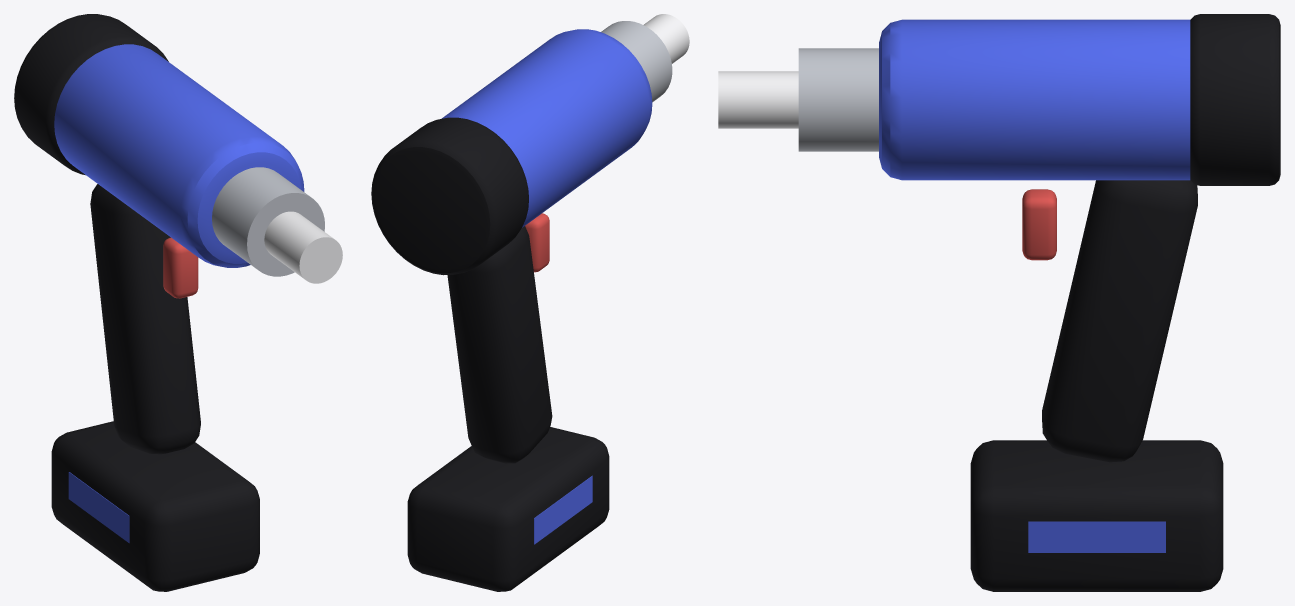
File: drill.glb
3 renders of one model, left to right at view 1: azimuth 30°, elevation 25°; view 2: azimuth 150°, elevation 25°; view 3: azimuth 270°, elevation 25°, orthographic. The views are drawn at different scales.
Parts seen in each view (by area): view 1: body.006, battery, grip, motor, nose, chuck, trigger, batlbl; view 2: battery, body.006, motor, grip, nose, batlbl, chuck, trigger; view 3: body.006, battery, grip, motor, nose, chuck, batlbl, trigger.
Part boxes in pixels (x1=…): body.006: x1=54, y1=44, x2=304, y2=267; battery: x1=51, y1=421, x2=259, y2=591; grip: x1=90, y1=184, x2=200, y2=454; motor: x1=14, y1=14, x2=168, y2=175; nose: x1=212, y1=167, x2=324, y2=276; chuck: x1=264, y1=211, x2=342, y2=283; trigger: x1=163, y1=237, x2=198, y2=298; batlbl: x1=68, y1=472, x2=129, y2=542; battery: x1=407, y1=427, x2=609, y2=591; body.006: x1=441, y1=29, x2=652, y2=227; motor: x1=371, y1=117, x2=528, y2=275; grip: x1=447, y1=226, x2=552, y2=463; nose: x1=601, y1=21, x2=672, y2=102; batlbl: x1=534, y1=475, x2=592, y2=544; chuck: x1=643, y1=14, x2=689, y2=63; trigger: x1=525, y1=213, x2=549, y2=272; body.006: x1=879, y1=19, x2=1190, y2=180; battery: x1=970, y1=440, x2=1223, y2=591; grip: x1=1042, y1=180, x2=1197, y2=462; motor: x1=1190, y1=14, x2=1280, y2=185; nose: x1=798, y1=48, x2=878, y2=151; chuck: x1=718, y1=71, x2=798, y2=128; batlbl: x1=1028, y1=521, x2=1165, y2=552; trigger: x1=1022, y1=189, x2=1056, y2=260.
Size of the model in its own units: 0.15 by 0.525 by 0.49.
